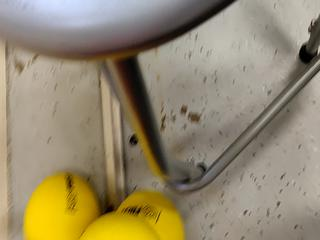power_cell: (23, 167, 101, 240), (109, 184, 184, 240), (79, 211, 161, 240)
